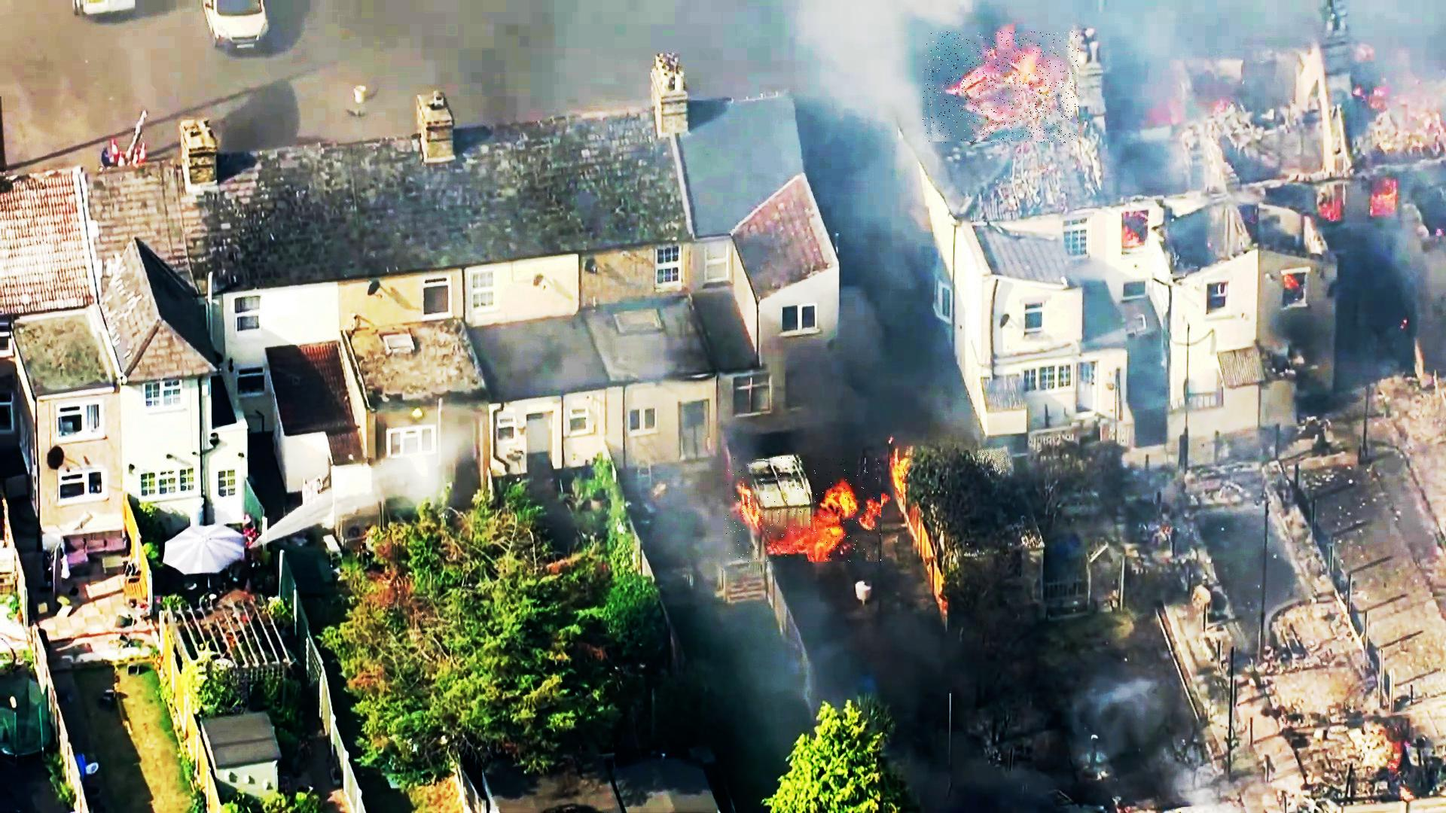fire: (923, 32, 1081, 144), (725, 458, 881, 562)
